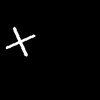single_crochet: (6, 27, 34, 55)
